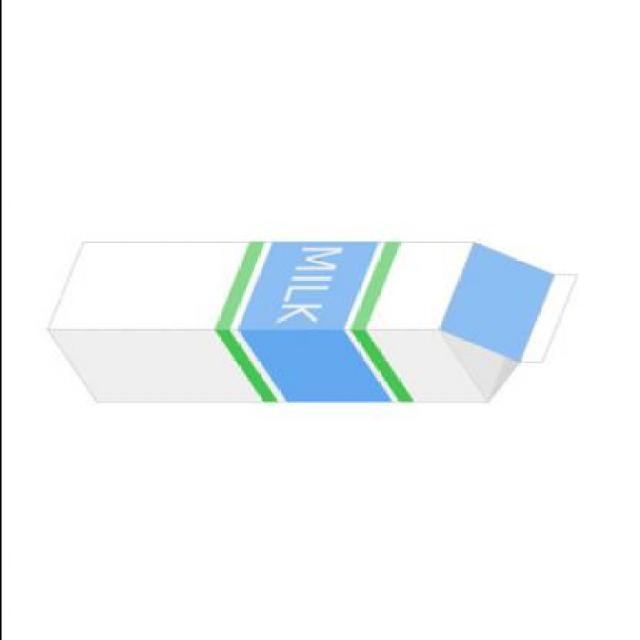non_white_jug: (32, 230, 591, 422)
